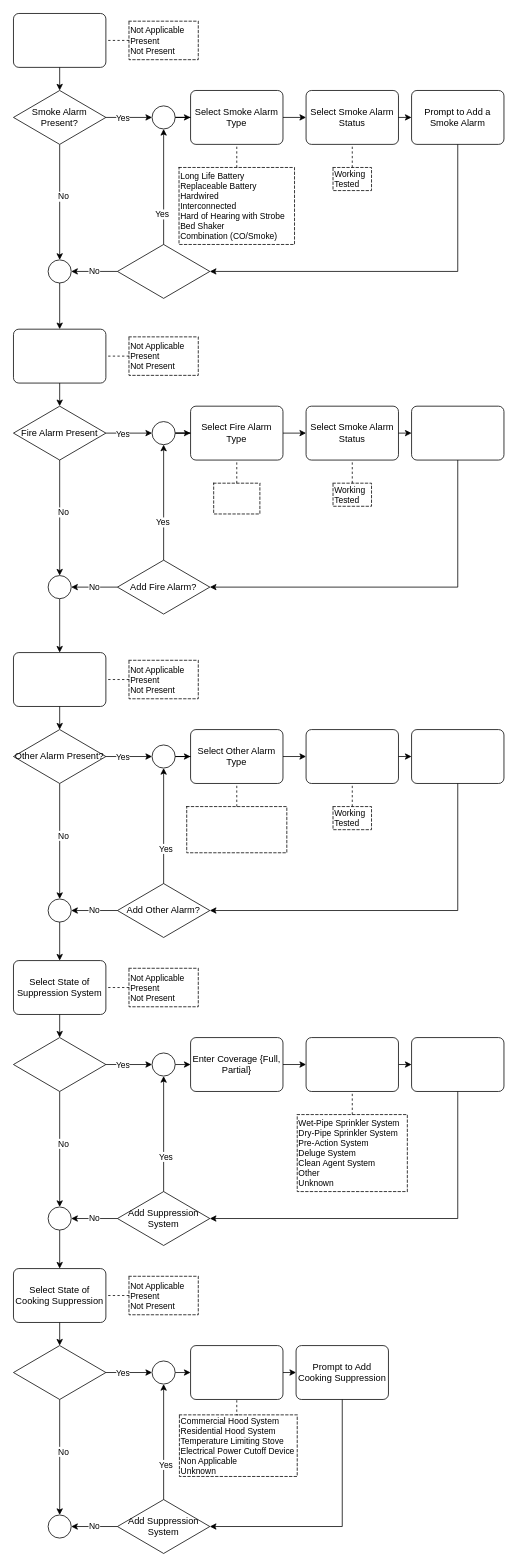
Image size: 517x1567. Some labels were removed from this diagram. The box of each missing label's shape, as (x1, y1, x2, y2) in pixels:
Add a Smoke Alarm?: (117, 244, 210, 298)
Carbon Monoxide Natural Gas Heat Detector Other Chemical Detector: (186, 806, 287, 853)
Cooking Suppression Present?: (13, 1345, 106, 1399)
Manual Automatic: (213, 482, 260, 514)
Prompt to Add Fire Alarm: (411, 405, 504, 460)
Prompt to Add Other Alarm: (411, 729, 504, 783)
Prompt to Add Suppression System: (411, 1037, 504, 1091)
Select Cooking Suppression Type: (190, 1345, 283, 1399)
Select Fire Alarm State: (13, 328, 106, 383)
Select Other Alarm State: (13, 652, 106, 706)
Select Other Alarm Status: (305, 729, 398, 783)
Select Smoke Alarm State: (13, 13, 106, 67)
Select Suppression System Type: (305, 1037, 398, 1091)
Suppression System Present?: (13, 1037, 106, 1091)
